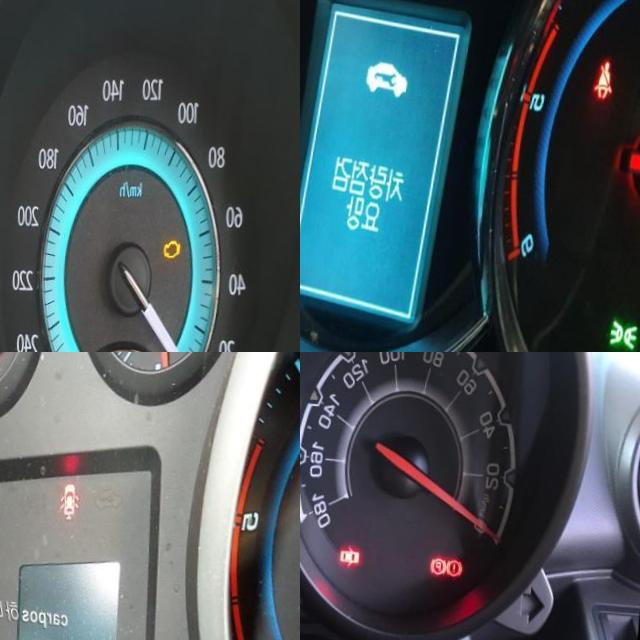Doors: (62, 477, 84, 516), (344, 539, 365, 563)
SideLamp: (614, 307, 640, 343)
